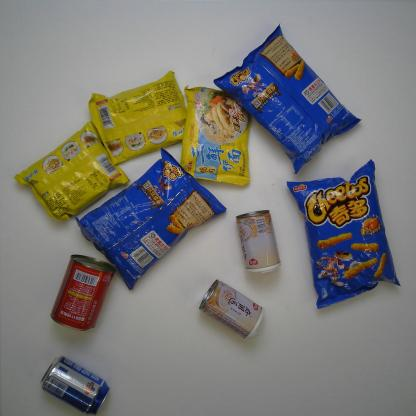Alcohol: (40, 355, 112, 416)
Canned Food: (50, 254, 116, 332), (199, 279, 266, 341), (235, 209, 282, 276)
Instant Noodles: (14, 120, 130, 222), (88, 70, 187, 165), (180, 85, 252, 187)
Puffed Food: (212, 23, 364, 176), (74, 146, 227, 291), (286, 158, 402, 310)
